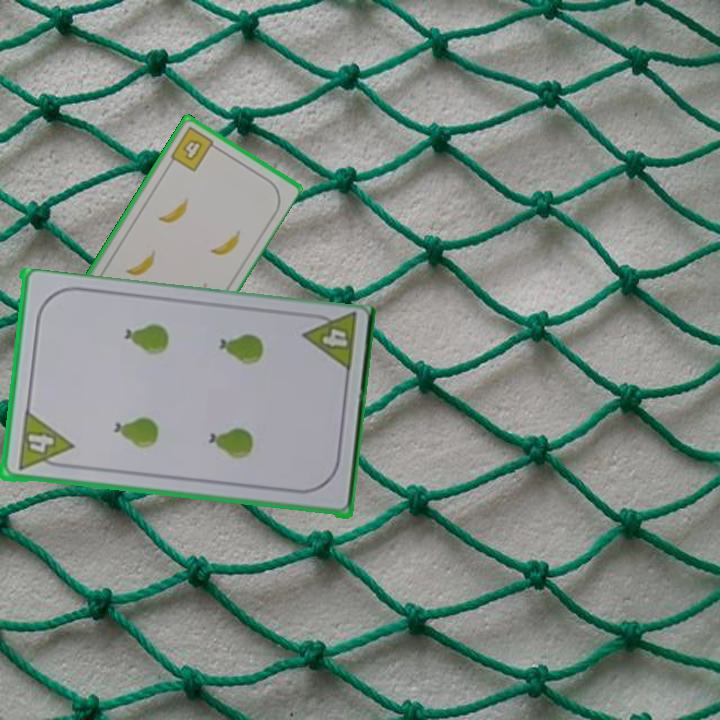4b: (167, 123, 221, 175)
4p: (22, 409, 74, 458), (318, 325, 350, 351)
